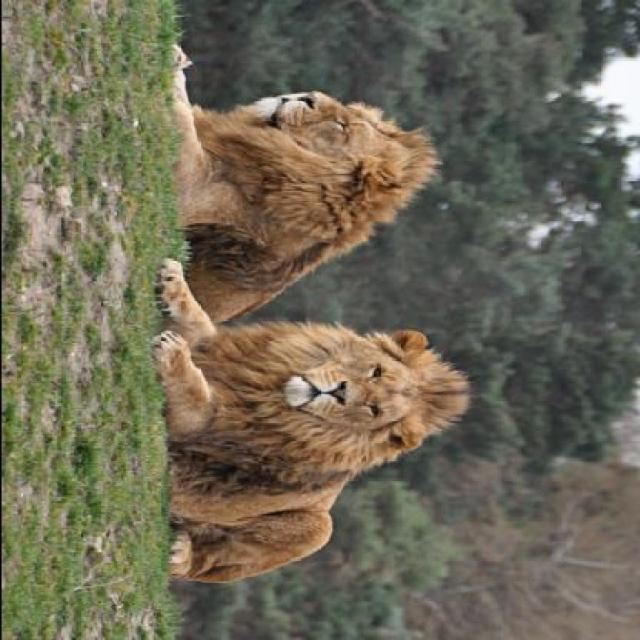Lion: (125, 257, 486, 595), (152, 32, 476, 318)
